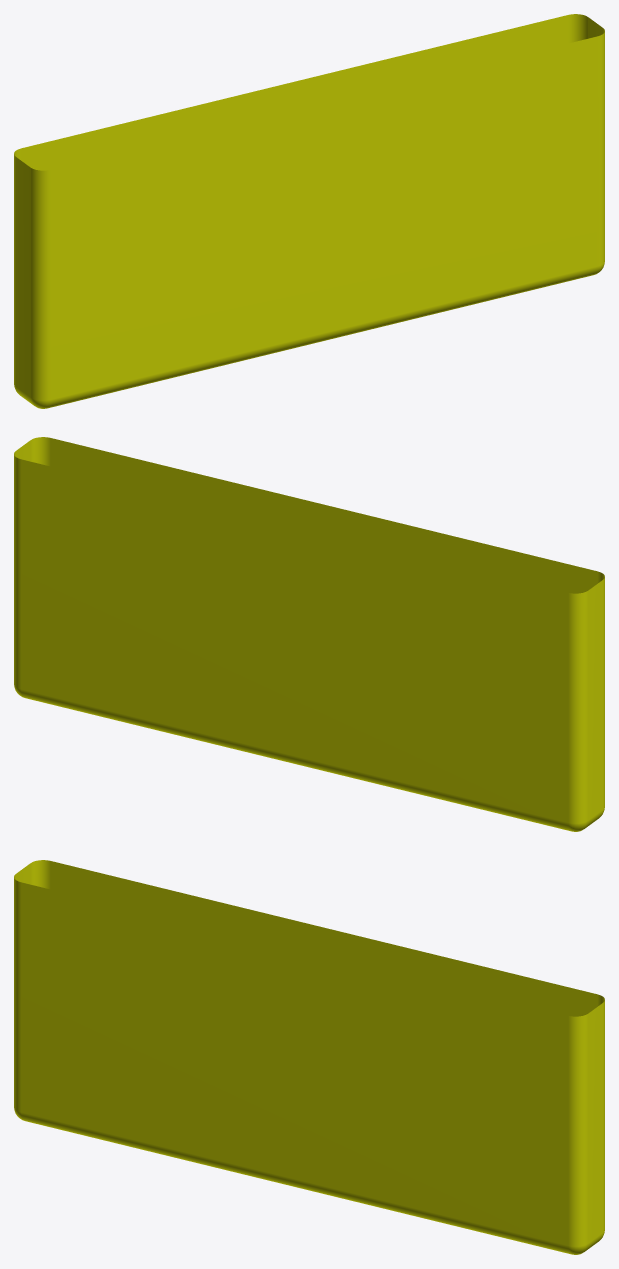
File: AGVE_Ceiling.fbx
The picture shows the model from 3 angles, top to bottom: view 1: azimuth 30°, elevation 25°; view 2: azimuth 150°, elevation 25°; view 3: azimuth 330°, elevation 25°; orthographic projection.
Visible parts, largest first — view 1: Ceiling; view 2: Ceiling; view 3: Ceiling.
Boxes of the visible parts, x1,y1,x2,y2 form: Ceiling: (14,14,604,408); Ceiling: (14,437,604,831); Ceiling: (14,860,604,1254).
Size of the model in its own units: 385 by 157 by 34.22.
